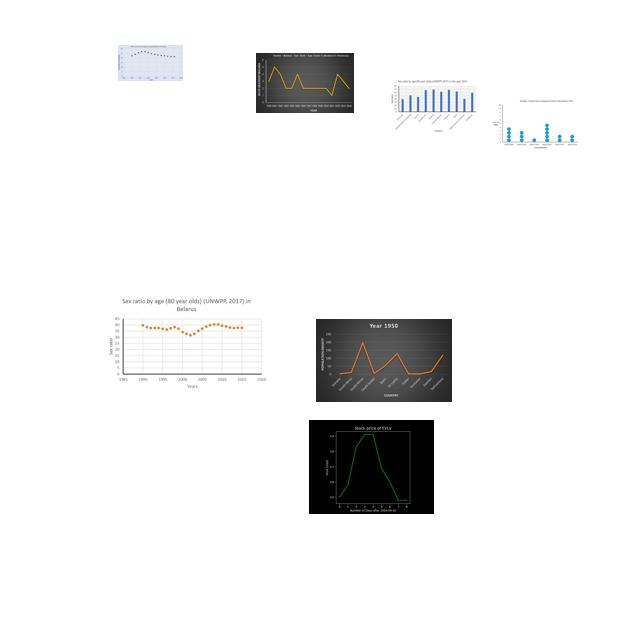Graph: (103, 295, 268, 391), (309, 420, 434, 514), (316, 319, 452, 402), (256, 53, 354, 113), (388, 79, 477, 132), (492, 99, 578, 150), (118, 45, 183, 81)
